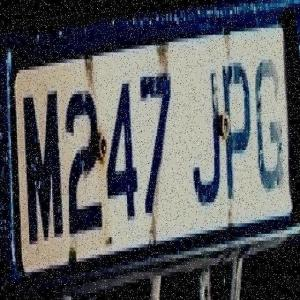Plate: (3, 14, 295, 288)
